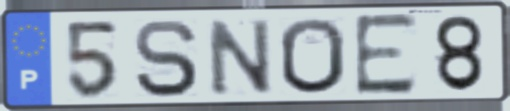5: (64, 17, 121, 102)
8: (432, 13, 485, 94)
E: (351, 11, 420, 99)
N: (204, 16, 276, 98)
O: (276, 15, 348, 96)
S: (132, 17, 201, 100)
